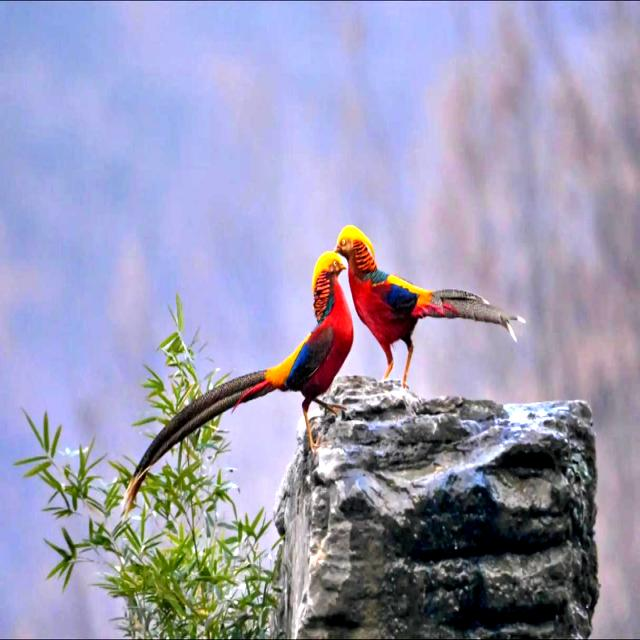Chrysolophus pictus feather: (123, 371, 270, 513), (423, 289, 525, 340)
